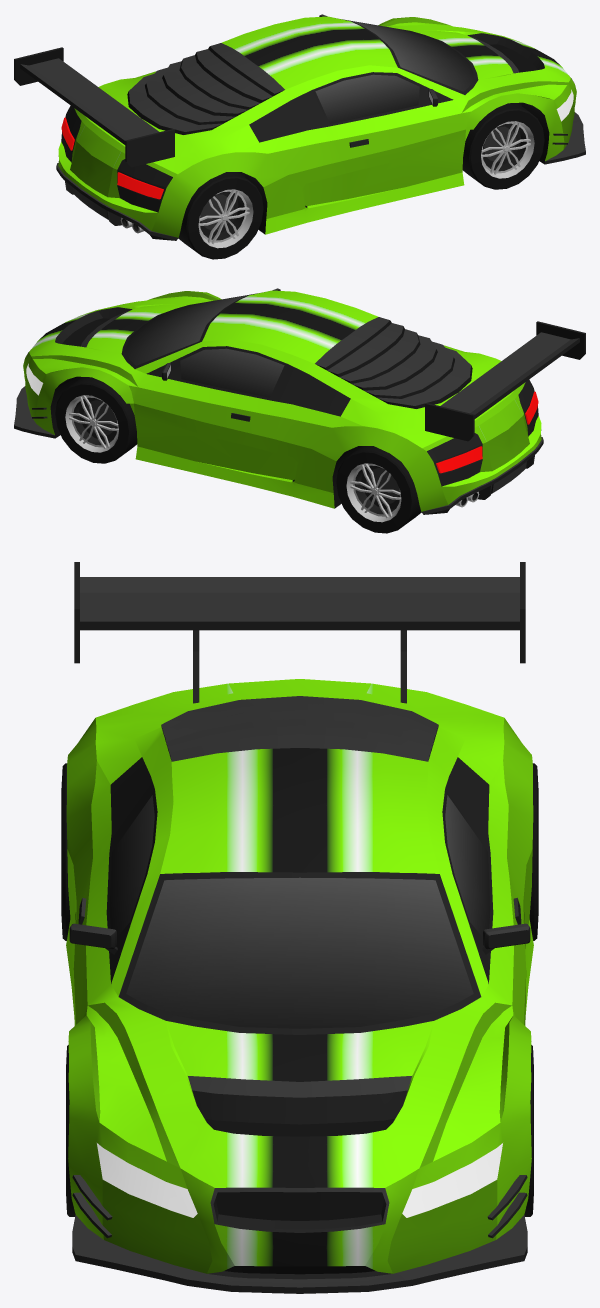
File: RaceCar_045.glb
3 renders of one model, top to bottom at view 1: azimuth 30°, elevation 25°; view 2: azimuth 150°, elevation 25°; view 3: azimuth 270°, elevation 25°, orthographic. The views are drawn at different scales.
Visible parts, largest first — view 1: RaceCar_045, wheel_3_RaceCar_045_Wheel_2R, wheel_1_RaceCar_045_Wheel_1R; view 2: RaceCar_045, wheel_2_RaceCar_045_Wheel_2L, wheel_0_RaceCar_045_Wheel_1L; view 3: RaceCar_045, wheel_2_RaceCar_045_Wheel_2L, wheel_3_RaceCar_045_Wheel_2R.
Boxes of the visible parts, x1,y1,x2,y2 form: RaceCar_045: [14, 14, 585, 240]; wheel_3_RaceCar_045_Wheel_2R: [178, 172, 263, 259]; wheel_1_RaceCar_045_Wheel_1R: [462, 103, 544, 189]; RaceCar_045: [14, 288, 585, 514]; wheel_2_RaceCar_045_Wheel_2L: [336, 446, 421, 533]; wheel_0_RaceCar_045_Wheel_1L: [55, 377, 137, 463]; RaceCar_045: [66, 562, 533, 1293]; wheel_2_RaceCar_045_Wheel_2L: [529, 763, 538, 940]; wheel_3_RaceCar_045_Wheel_2R: [61, 763, 70, 940].
Size of the model in its own units: 4.98 by 1.36 by 2.09.
2 materials, 2 textured.
